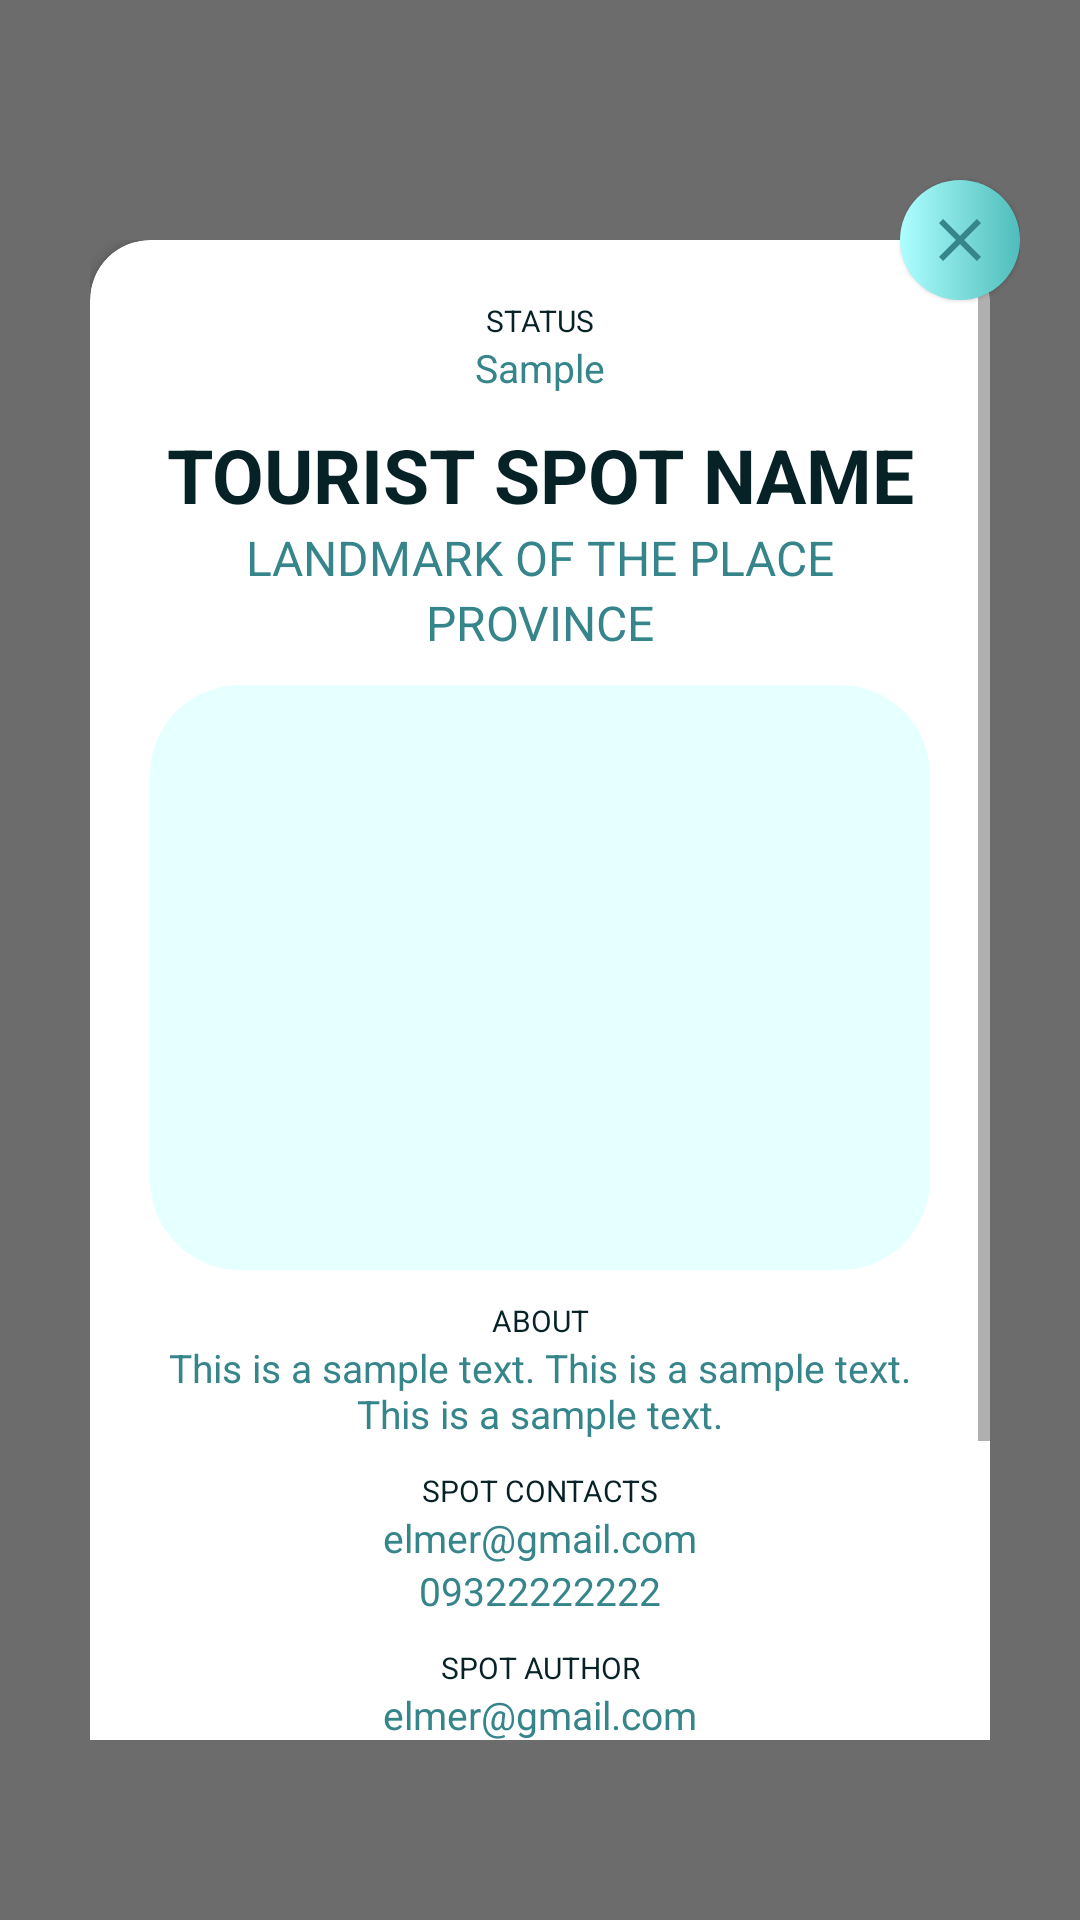

Where to tap for icons on this 1080 x 1920 app screen, as (x,y):
close: (960,240)
